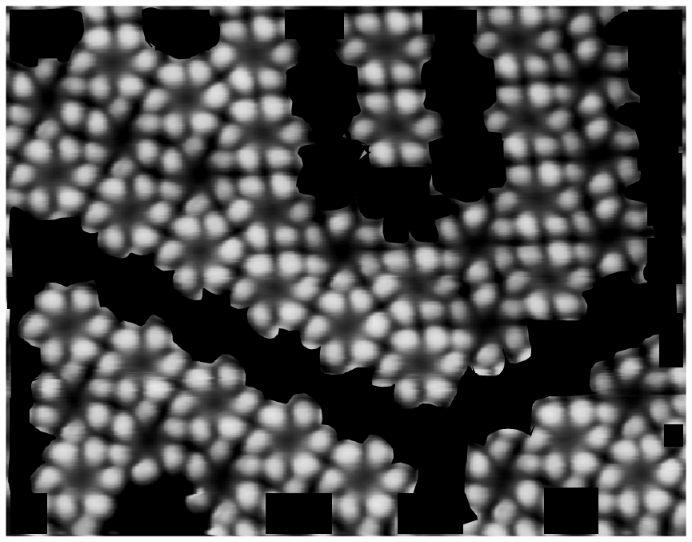L: (35, 437, 125, 520), (244, 400, 333, 482), (319, 439, 409, 520), (97, 325, 188, 405), (350, 87, 440, 167), (505, 240, 594, 320), (142, 59, 230, 139), (226, 171, 314, 251), (484, 82, 573, 161), (210, 15, 297, 95), (379, 325, 466, 405), (157, 213, 245, 292), (69, 23, 158, 101), (84, 173, 173, 251), (495, 161, 582, 240), (24, 287, 111, 366), (372, 245, 459, 324), (305, 288, 392, 367), (171, 365, 259, 443), (599, 436, 683, 517), (11, 137, 100, 213), (474, 6, 562, 82), (232, 250, 318, 327), (341, 10, 429, 85), (526, 400, 611, 477), (218, 95, 304, 170)
R: (466, 437, 545, 525), (186, 439, 264, 526), (83, 97, 165, 178), (448, 282, 528, 365), (571, 195, 650, 279), (439, 202, 518, 285), (109, 400, 187, 484), (158, 134, 237, 216), (561, 117, 640, 199), (593, 355, 672, 437), (303, 211, 382, 291), (9, 60, 86, 142), (35, 359, 113, 437), (552, 36, 627, 117)
